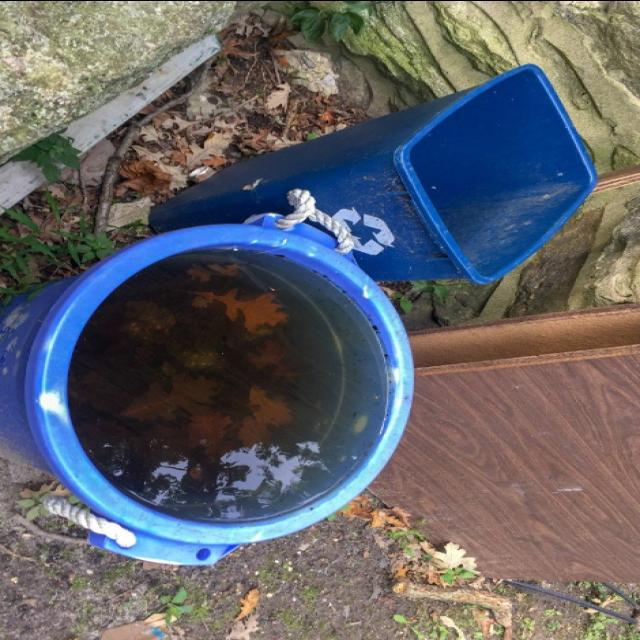Breeding Place: (0, 216, 441, 594), (137, 53, 592, 294)
